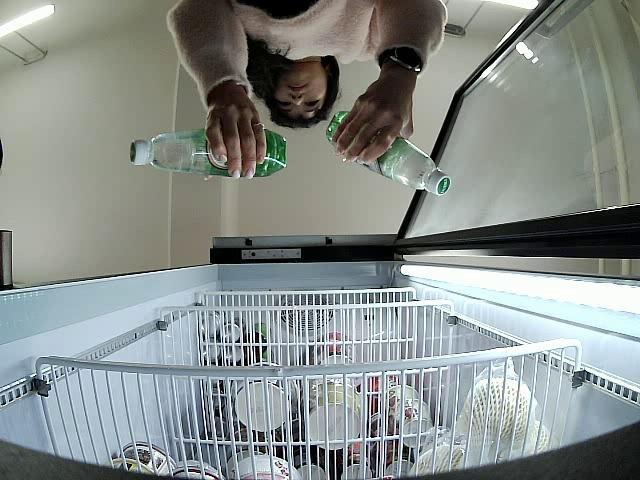18_trevi: (324, 109, 449, 197), (130, 126, 287, 182)
